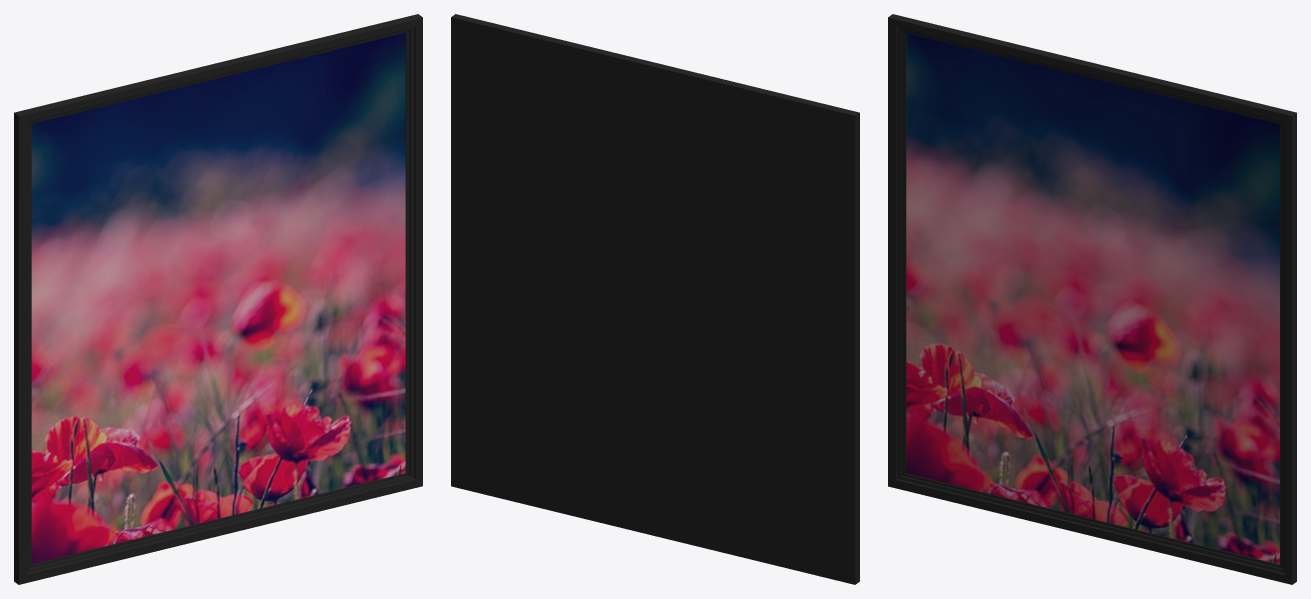
File: Picture 6.FBX
The picture shows the model from 3 angles, left to right: view 1: azimuth 30°, elevation 25°; view 2: azimuth 150°, elevation 25°; view 3: azimuth 330°, elevation 25°; orthographic projection.
Visible parts, largest first — view 1: picture 6; view 2: picture 6; view 3: picture 6.
Boxes of the visible parts, left/top/right/bottom form: picture 6: left=14, top=14, right=422, bottom=584; picture 6: left=451, top=14, right=859, bottom=584; picture 6: left=888, top=14, right=1296, bottom=584.
Size of the model in its own units: 72.15 by 79.99 by 1.46.
1 material, 1 textured.
